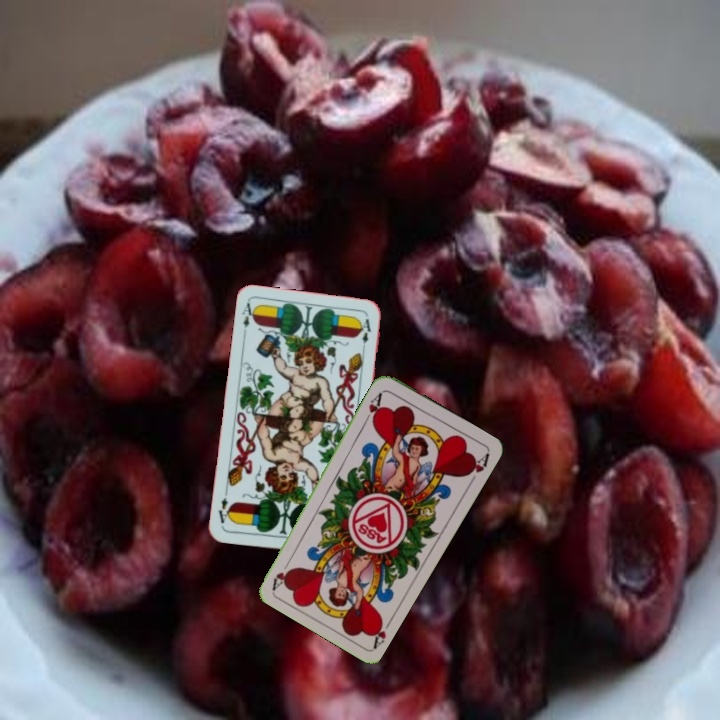EA: (238, 299, 258, 330)
HA: (367, 613, 396, 650), (361, 387, 386, 425)
